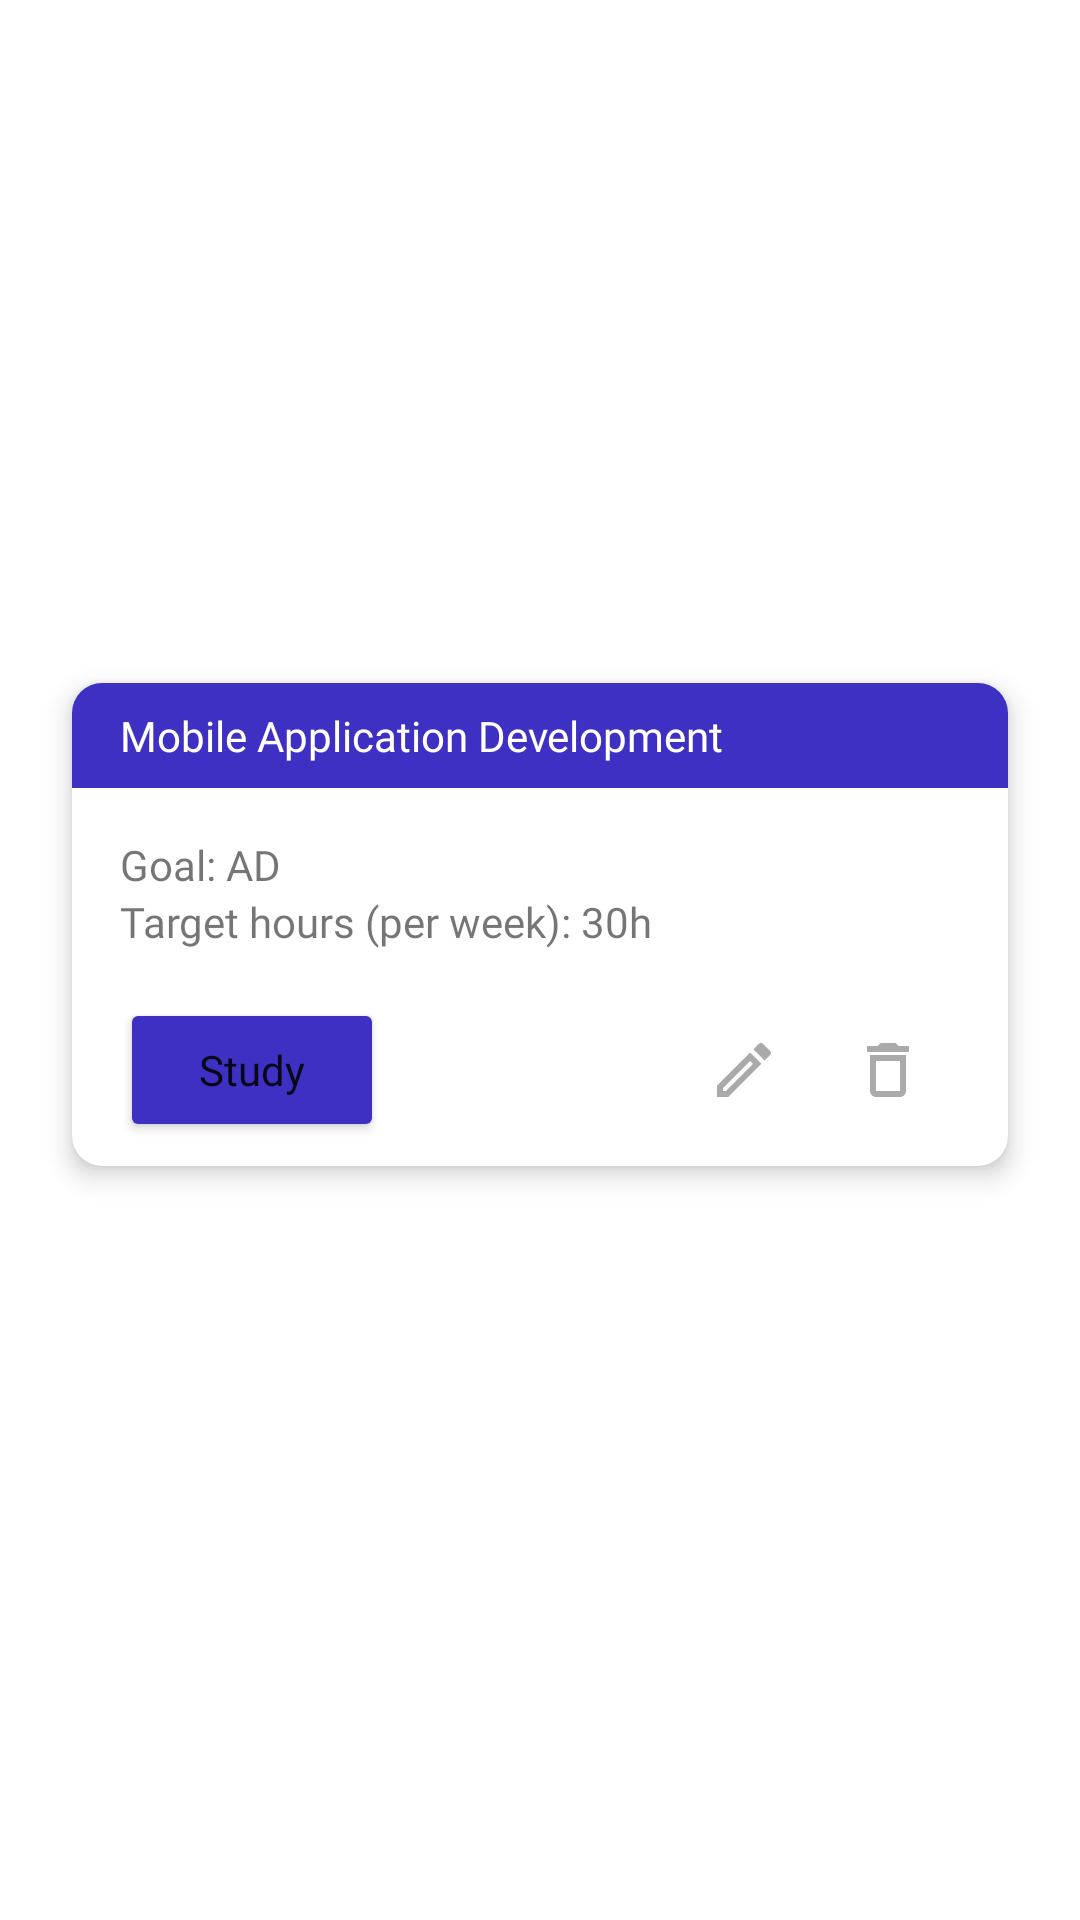

Named icons in this screenshot (1080*1920) and their bounding boxes, (x1, y1, x2, y2):
Delete Module: (867, 1043, 909, 1097)
Edit Module: (717, 1043, 771, 1097)
